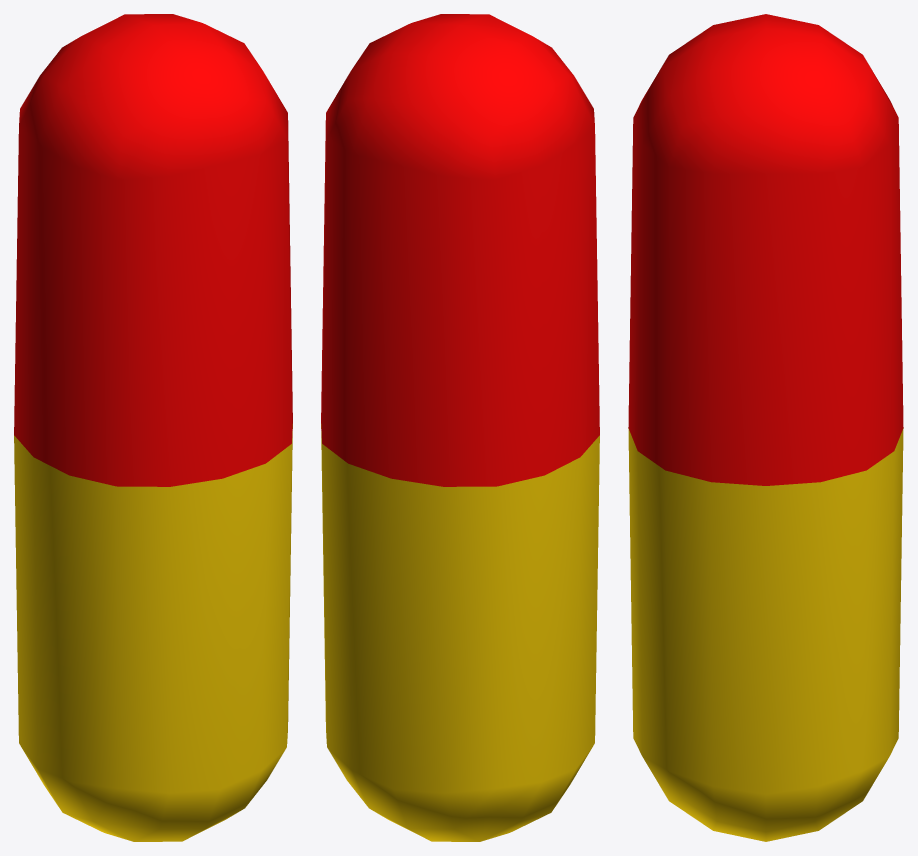
File: Parent_Run_Capsule.fbx
The picture shows the model from 3 angles, left to right: view 1: azimuth 30°, elevation 25°; view 2: azimuth 150°, elevation 25°; view 3: azimuth 270°, elevation 25°; orthographic projection.
Visible parts, largest first — view 1: Capsule; view 2: Capsule; view 3: Capsule.
Part boxes in pixels (x1,y1,x2,y2): Capsule: (14,14,292,841); Capsule: (321,14,599,841); Capsule: (628,14,903,841).
Bounding box in the file's own units: 147 × 471 × 147.
